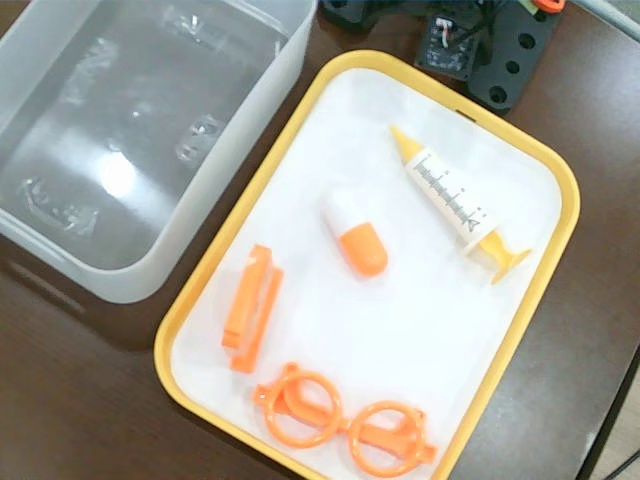pill: (320, 187, 390, 285)
syringe: (389, 125, 534, 286)
